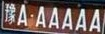A: (17, 4, 27, 26)
